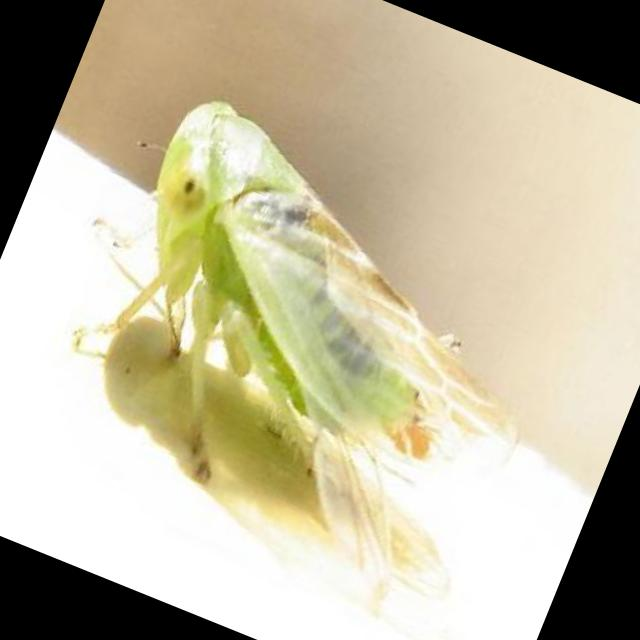green-leafhopper: (74, 99, 521, 605)
